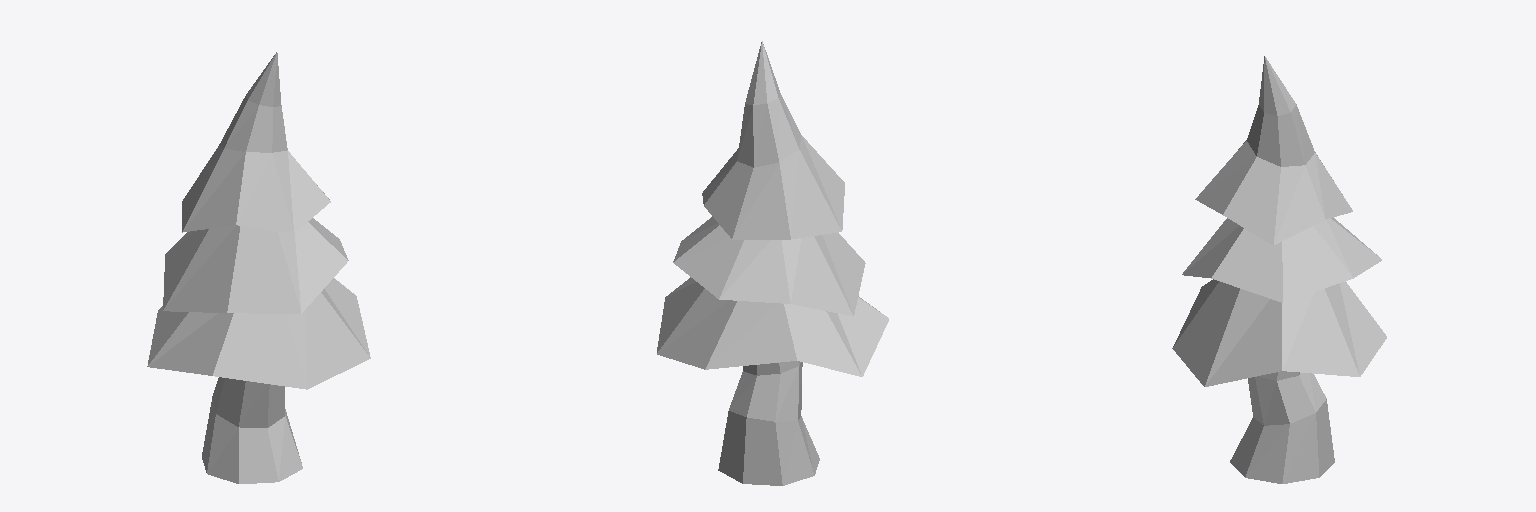
File: tree2.obj
The picture shows the model from 3 angles: view 1: azimuth 30°, elevation 25°; view 2: azimuth 150°, elevation 25°; view 3: azimuth 270°, elevation 25°; orthographic projection.
Parts seen in each view (by area): view 1: Circle.001; view 2: Circle.001; view 3: Circle.001.
Part boxes in pixels (bbox=[...]): Circle.001: bbox=[147, 52, 370, 483]; Circle.001: bbox=[657, 41, 888, 485]; Circle.001: bbox=[1172, 56, 1386, 483].
Size of the model in its own units: 6.35 by 12.37 by 5.82.